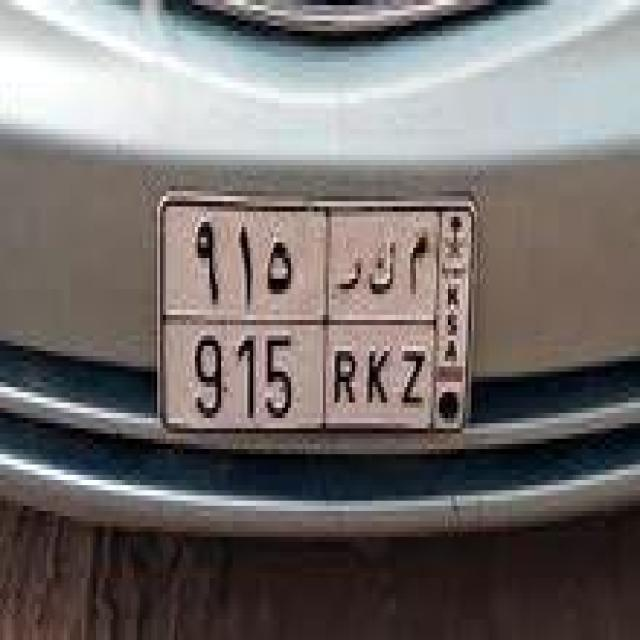license_plate: (131, 144, 489, 474)
